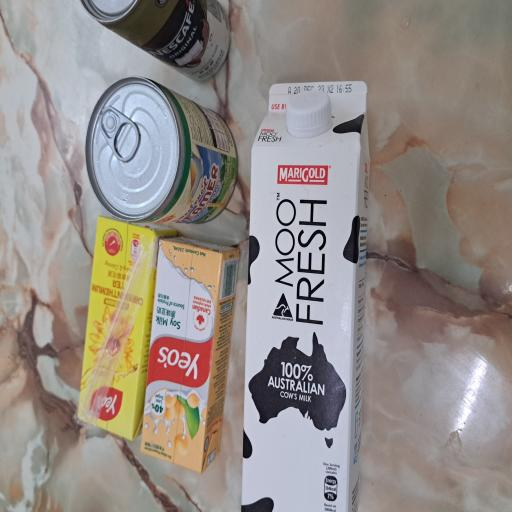can: (216, 112, 327, 320), (321, 106, 384, 308)
drink carton: (0, 323, 325, 495), (28, 186, 208, 320), (52, 101, 222, 237)
plastic bottle cap: (286, 381, 318, 442)
pop tab: (262, 132, 304, 188)
